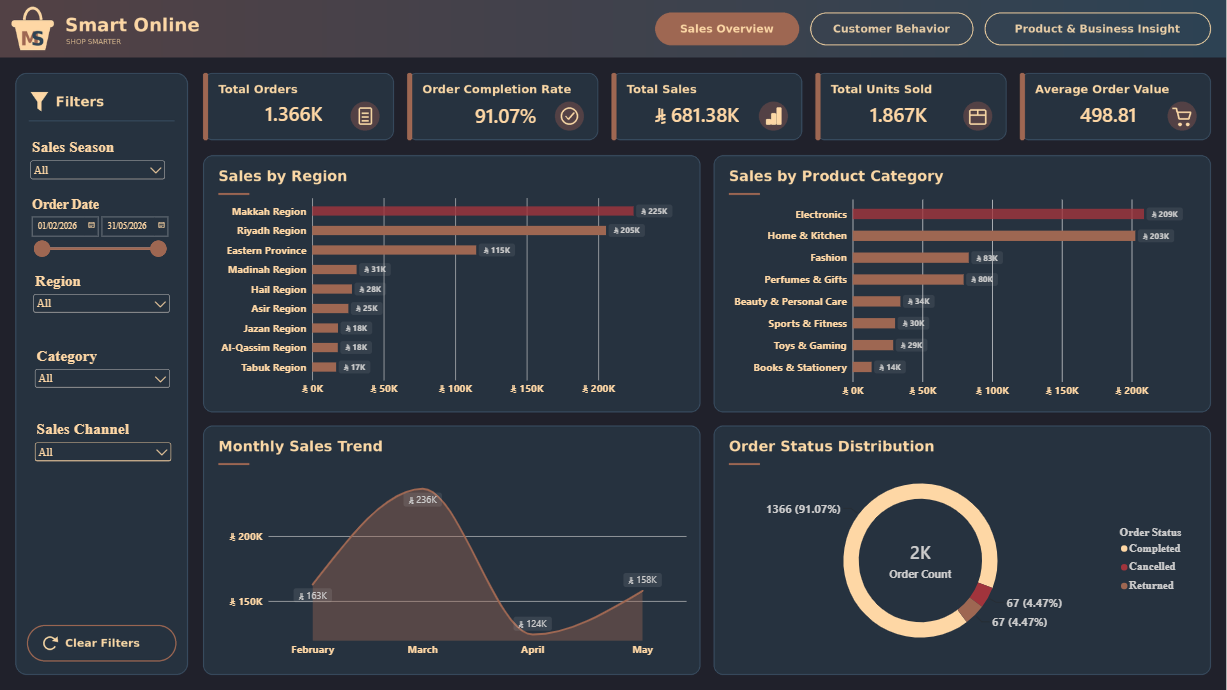

The page's visual inventory and layout, read from the dashboard file:
{"tool":"powerbi","page":{"name":"Sales Overview","canvas":[1920,1080],"ordinal":0},"visuals":[{"type":"cardVisual","title":"Total Sales","fields":{"Data":["Sales_Data.Total Sales"]},"box":[936,38,309,280.6],"z":0},{"type":"cardVisual","title":"Total Orders","fields":{"Data":["Sales_Data.Total Orders"]},"box":[242,66,436,222],"z":1000},{"type":"cardVisual","title":"Total Units Sold","fields":{"Data":["Sales_Data.Total Quantity"]},"box":[1252,38,309,281],"z":2000},{"type":"cardVisual","title":"Average Order Value ","fields":{"Data":["Sales_Data.AOV"]},"box":[1580,74,309,207],"z":3000},{"type":"cardVisual","title":"Order Completion Rate","fields":{"Data":["Sales_Data.Completion Rate"]},"box":[676,128,230,100],"z":4000},{"type":"lineChart","title":"Monthly Sales Trend","fields":{"Category":["Sales_Data.Order Date.Variation.Date Hierarchy.Month"],"Y":["Sales_Data.Total Sales"]},"box":[342,734,748,314],"z":5000},{"type":"clusteredBarChart","title":"Sales by Product Category","fields":{"Category":["Sales_Data.Category"],"Y":["Sales_Data.Total Sales"]},"box":[1132,290,758,352],"z":6000},{"type":"barChart","title":"Sales by Region","fields":{"Category":["Sales_Data.Region"],"Y":["Sales_Data.Total Sales"]},"box":[328,288,762,352],"z":7000},{"type":"donutChart","title":"Order Status Distribution","fields":{"Category":["Sales_Data.Order Status"],"Y":["Sales_Data.Order Count"]},"box":[1113.3,706.7,776.7,343.3],"z":8000},{"type":"slicer","fields":{"Values":["Sales_Data.Order Date"]},"box":[43.3,307.8,221.7,146.7],"z":9000},{"type":"slicer","fields":{"Values":["Sales_Data.Region"]},"box":[46.7,426.1,223.3,116.7],"z":10000},{"type":"slicer","fields":{"Values":["Sales_Data.Sales Season"]},"box":[42.5,216.2,221.1,82.2],"z":11000},{"type":"slicer","fields":{"Values":["Sales_Data.Category"]},"box":[48.3,542.8,221.4,88.6],"z":12000},{"type":"slicer","fields":{"Values":["Sales_Data.Sales Channel"]},"box":[48.3,657.8,223.3,110],"z":13000},{"type":"actionButton","box":[60,980,200,50],"z":13001},{"type":"actionButton","box":[1306.7,26.7,196.7,40],"z":13002},{"type":"actionButton","box":[1563.3,26.7,296.7,40],"z":13003}]}

Visuals, with their boxes in screenshot pixels (x1, y1, x2, y2), scaled from the page's 1920x1080 canvas onto the 1227x690 screenshot:
"Total Sales" cardVisual: crop(598, 24, 796, 204)
"Total Orders" cardVisual: crop(155, 42, 433, 184)
"Total Units Sold" cardVisual: crop(800, 24, 998, 204)
"Average Order Value " cardVisual: crop(1010, 47, 1207, 180)
"Order Completion Rate" cardVisual: crop(432, 82, 579, 146)
"Monthly Sales Trend" lineChart: crop(219, 469, 697, 670)
"Sales by Product Category" clusteredBarChart: crop(723, 185, 1208, 410)
"Sales by Region" barChart: crop(210, 184, 697, 409)
"Order Status Distribution" donutChart: crop(711, 452, 1208, 671)
slicer - Sales_Data.Order Date: crop(28, 197, 169, 290)
slicer - Sales_Data.Region: crop(30, 272, 173, 347)
slicer - Sales_Data.Sales Season: crop(27, 138, 168, 191)
slicer - Sales_Data.Category: crop(31, 347, 172, 403)
slicer - Sales_Data.Sales Channel: crop(31, 420, 174, 491)
actionButton: crop(38, 626, 166, 658)
actionButton: crop(835, 17, 961, 43)
actionButton: crop(999, 17, 1189, 43)
